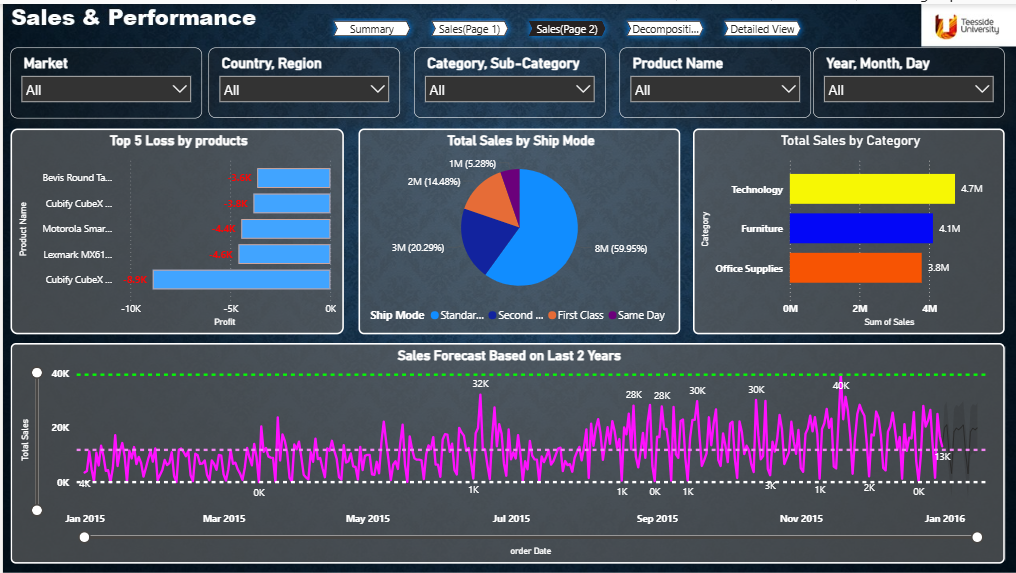

This screenshot's page, from the dashboard's own definition file:
{"tool":"powerbi","page":{"name":"Sales(Page 2)","canvas":[1280,720],"ordinal":2},"visuals":[{"type":"slicer","fields":{"Values":["Orders.Market"]},"box":[10,55,241,89],"z":0},{"type":"slicer","fields":{"Values":["Orders.Country","Orders.Region"]},"box":[258.9,55,241,88.8],"z":1000},{"type":"slicer","fields":{"Values":["Product.Category","Product.Sub-Category"]},"box":[517.8,55,241,88.8],"z":2000},{"type":"slicer","fields":{"Values":["Product.Product Name"]},"box":[776.7,55,241,88.8],"z":3000},{"type":"slicer","fields":{"Values":["Calendar.Year","Calendar.Month","Calendar.Day"]},"box":[1020.5,55,241,88.8],"z":4000},{"type":"clusteredBarChart","title":"Top 5 Loss by products","fields":{"Y":["Sum(Orders.Profit)"],"Category":["Product.Product Name"]},"box":[9.5,157.5,419.9,259.3],"z":5000},{"type":"pieChart","title":"Total Sales by Ship Mode","fields":{"Y":["Sum(Orders.Sales)"],"Category":["Ship Mode.Ship Mode"]},"box":[447,157.5,405.6,259.3],"z":6000},{"type":"clusteredBarChart","title":"Total Sales by Category","fields":{"Category":["Product.Category"],"Y":["Sum(Orders.Sales)"]},"box":[870.1,157.5,392.9,259.3],"z":9000},{"type":"lineChart","title":"Sales Forecast Based on Last 2 Years","fields":{"Y":["Sum(Orders.Sales)"],"Category":["Calendar.Date"]},"box":[9.4,427.1,1252.9,277.8],"z":10000},{"type":"pageNavigator","box":[408,14,605.2,35.4],"z":11000}]}

Visuals, with their boxes in screenshot pixels (x1, y1, x2, y2), scaled from the page's 1280x720 canvas onto the 1016x573 screenshot:
slicer - Orders.Market: x1=8, y1=44, x2=199, y2=115
slicer - Orders.Country x Orders.Region: x1=206, y1=44, x2=397, y2=114
slicer - Product.Category x Product.Sub-Category: x1=411, y1=44, x2=602, y2=114
slicer - Product.Product Name: x1=617, y1=44, x2=808, y2=114
slicer - Calendar.Year x Calendar.Month: x1=810, y1=44, x2=1001, y2=114
"Top 5 Loss by products" clusteredBarChart: x1=8, y1=125, x2=341, y2=332
"Total Sales by Ship Mode" pieChart: x1=355, y1=125, x2=677, y2=332
"Total Sales by Category" clusteredBarChart: x1=691, y1=125, x2=1003, y2=332
"Sales Forecast Based on Last 2 Years" lineChart: x1=7, y1=340, x2=1002, y2=561
pageNavigator: x1=324, y1=11, x2=804, y2=39
